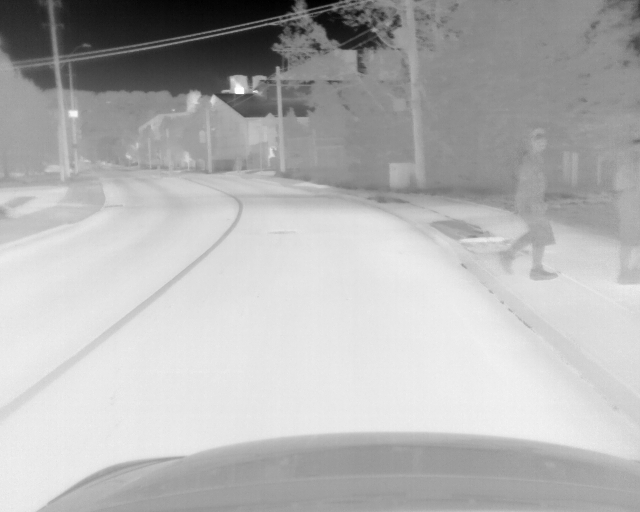people: (501, 126, 561, 282), (609, 129, 640, 285)
